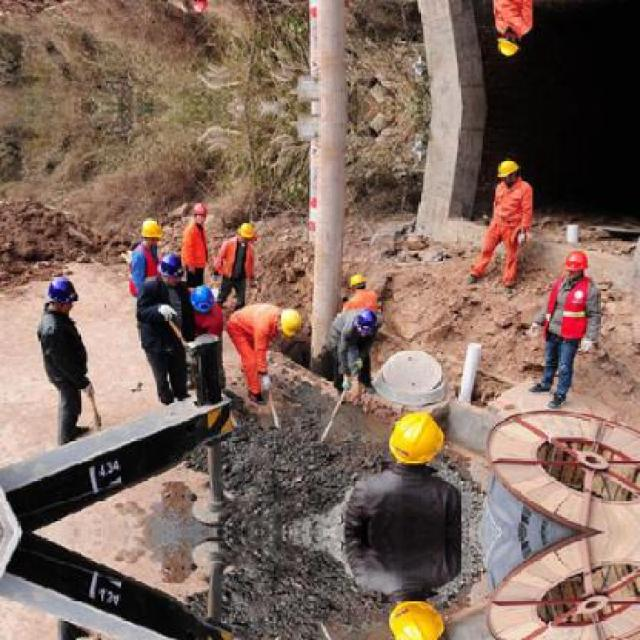helmet: (388, 410, 446, 470), (388, 591, 446, 638), (42, 274, 78, 314), (561, 247, 590, 279), (351, 304, 378, 336), (158, 253, 184, 284), (189, 283, 217, 311), (494, 154, 518, 181), (494, 31, 518, 58), (140, 217, 162, 246), (277, 306, 298, 334), (346, 270, 368, 290), (188, 198, 206, 220), (234, 218, 252, 240), (187, 0, 207, 15)
